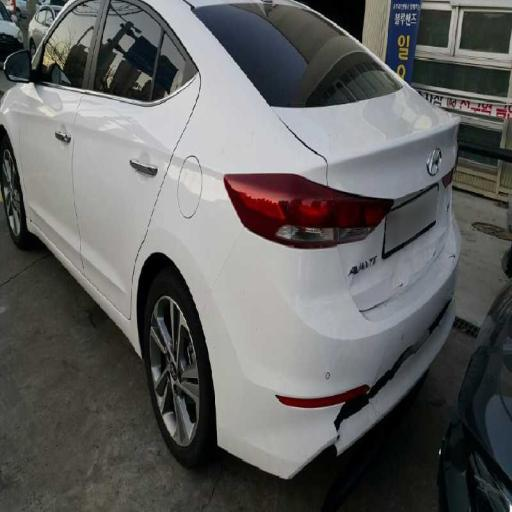dent: (264, 92, 464, 442)
